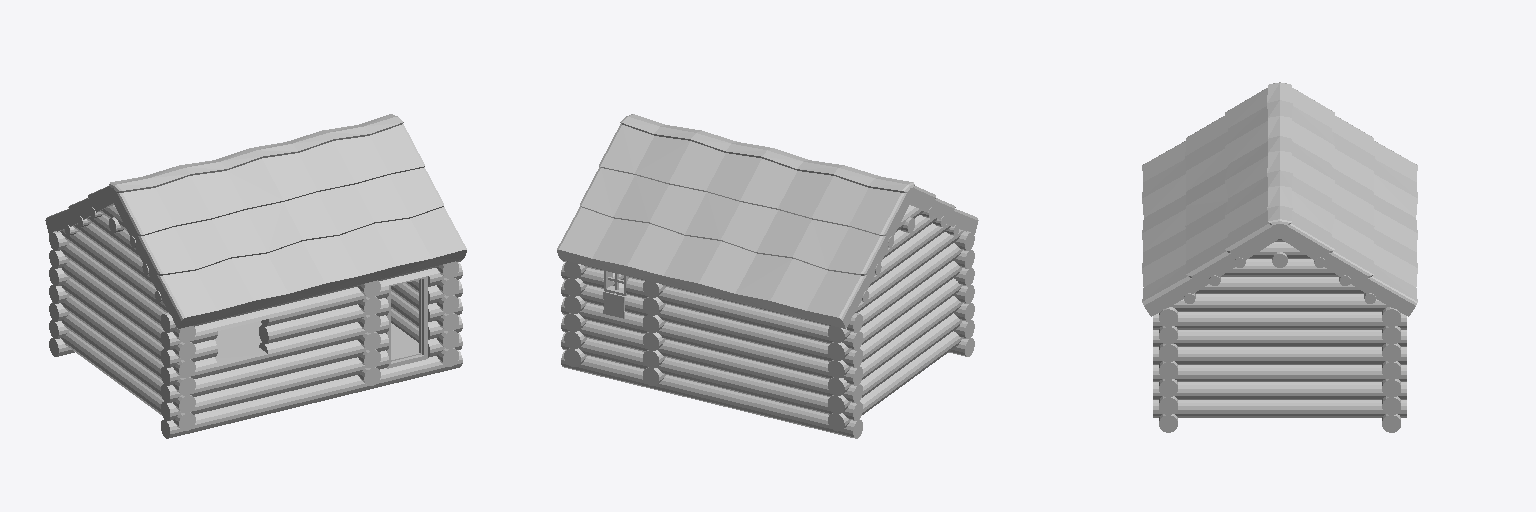
Rendered from workshop1.obj.
The picture shows the model from 3 angles: view 1: azimuth 30°, elevation 25°; view 2: azimuth 150°, elevation 25°; view 3: azimuth 270°, elevation 25°; orthographic projection.
Visible parts, largest first — view 1: Roof_low_meshId0_name.002, Logs_low_meshId8_name.002, Floor_low_meshId7_name, Door_frame_low_meshId6_name.002; view 2: Roof_low_meshId0_name.002, Logs_low_meshId8_name.002; view 3: Roof_low_meshId0_name.002, Logs_low_meshId8_name.002.
Boxes of the visible parts, <box> form: Roof_low_meshId0_name.002: <box>45,114,466,328</box>; Logs_low_meshId8_name.002: <box>49,205,462,438</box>; Floor_low_meshId7_name: <box>214,321,418,358</box>; Door_frame_low_meshId6_name.002: <box>386,276,427,368</box>; Roof_low_meshId0_name.002: <box>557,114,978,328</box>; Logs_low_meshId8_name.002: <box>561,205,974,438</box>; Roof_low_meshId0_name.002: <box>1142,82,1417,316</box>; Logs_low_meshId8_name.002: <box>1153,239,1406,432</box>.
Size of the model in its own units: 4 by 2.76 by 3.27.